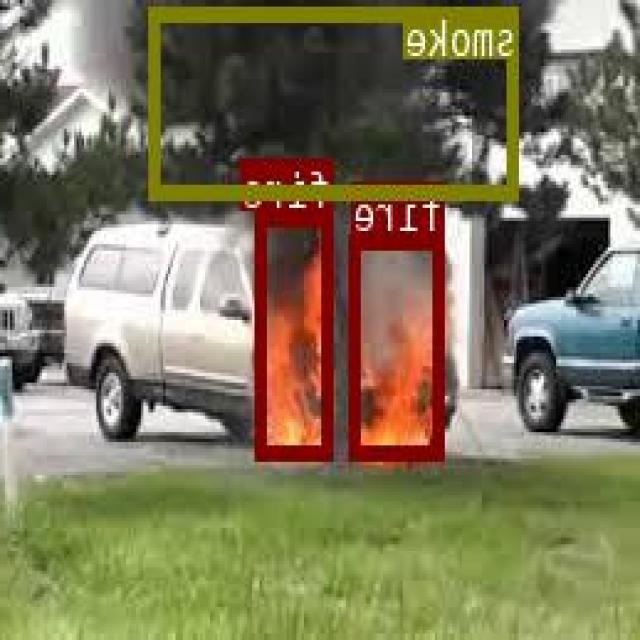fire: (352, 232, 446, 458), (257, 209, 335, 458)
smoke: (151, 6, 520, 195)
